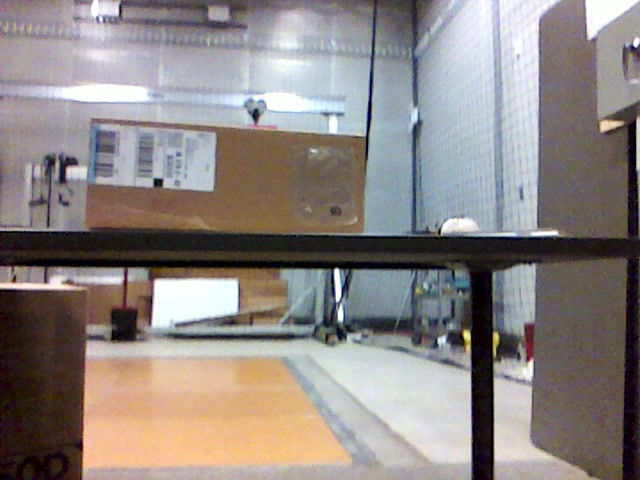box: (87, 118, 364, 233)
